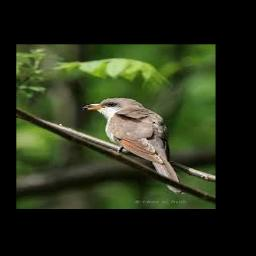Cuckoo: (83, 98, 184, 195)
